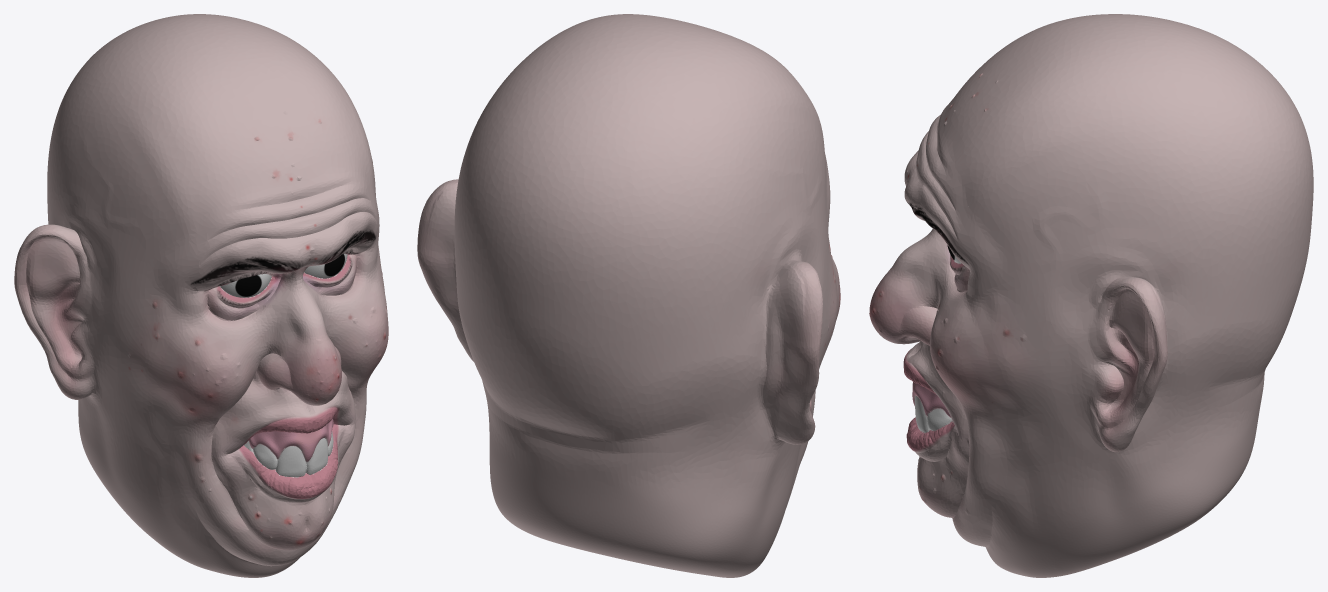
File: head.glb
3 views of the same model, side by side, from view 1: azimuth 30°, elevation 25°; view 2: azimuth 150°, elevation 25°; view 3: azimuth 270°, elevation 25° (orthographic). The views are drawn at different scales.
Visible parts, largest first — view 1: Teefv; view 2: Teefv; view 3: Teefv.
Boxes of the visible parts, x1,y1,x2,y2 form: Teefv: (14, 14, 388, 577); Teefv: (417, 14, 840, 577); Teefv: (869, 14, 1313, 577).
Size of the model in its own units: 1.07 by 1.44 by 1.09.
